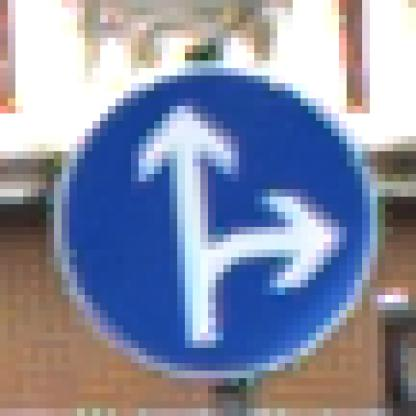Straight or Right: (39, 47, 371, 372)
